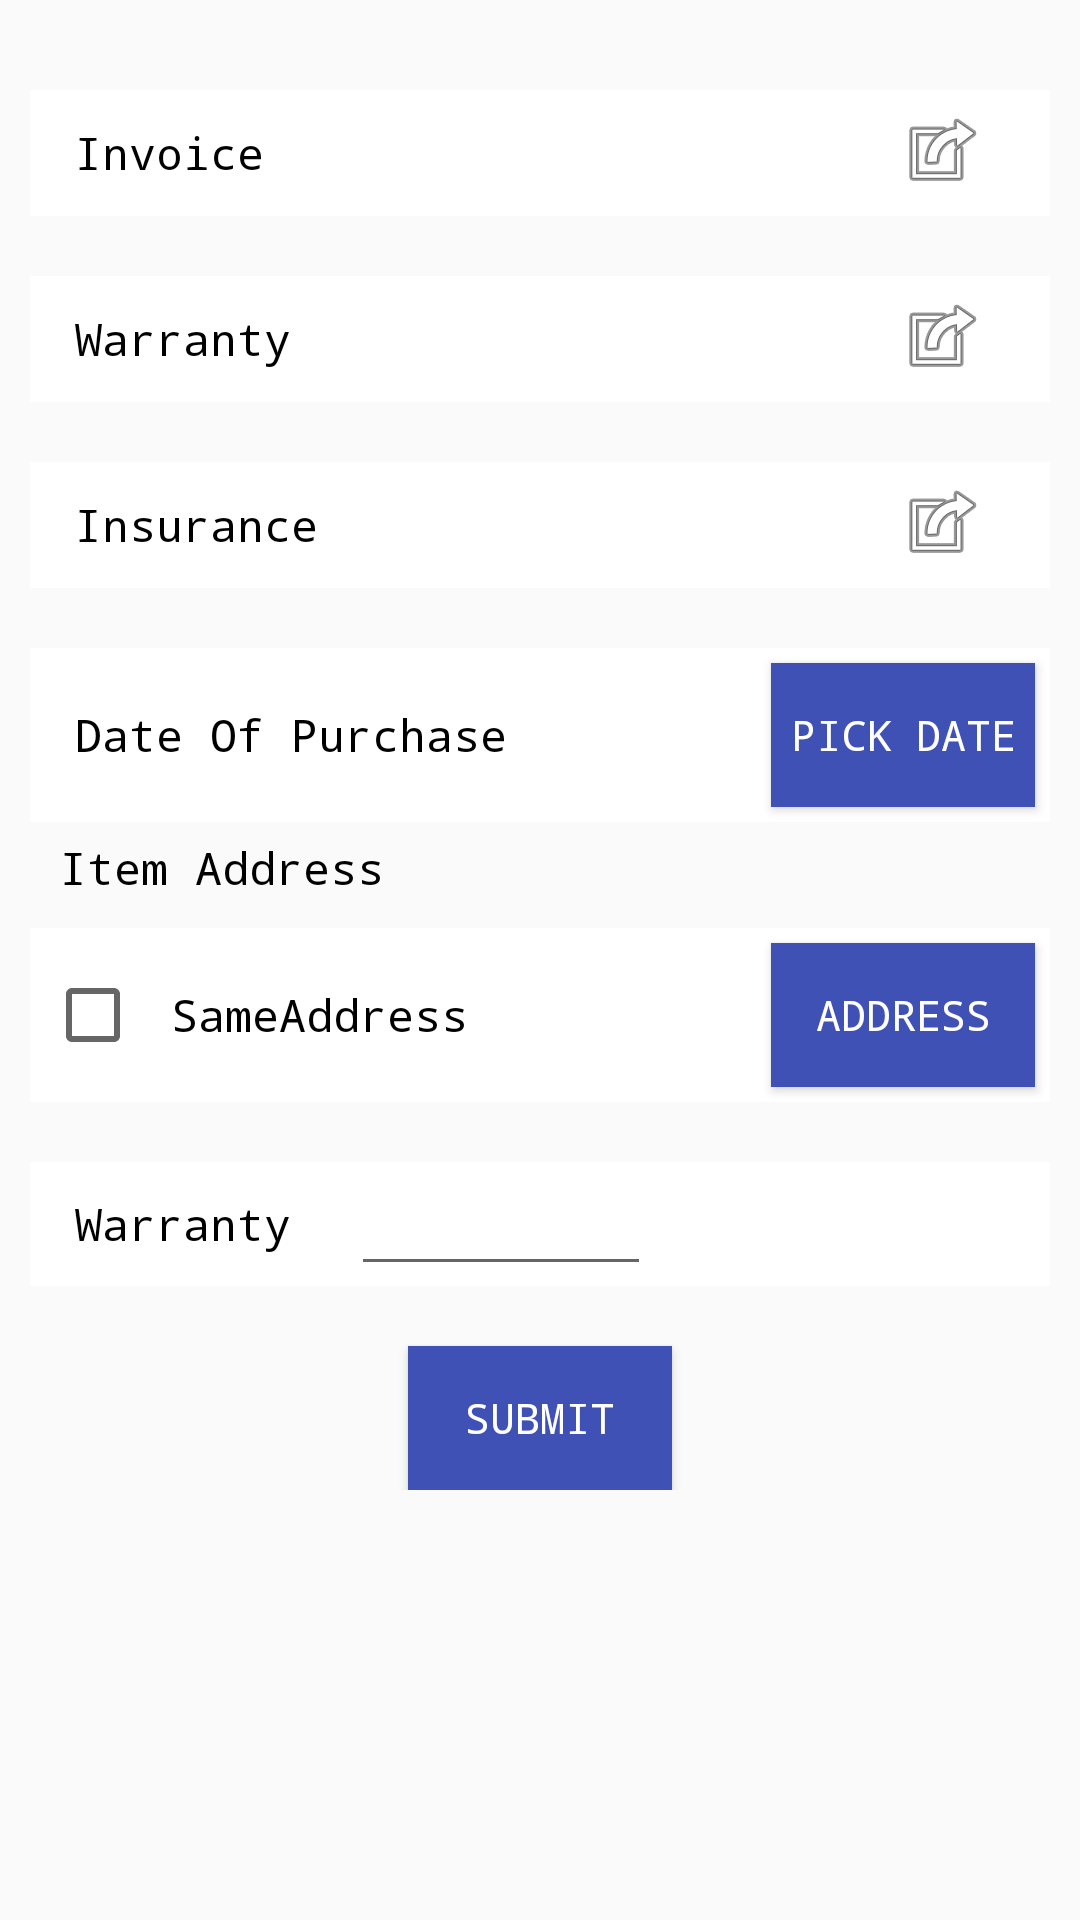

Icon click points for this 1080 x 1920 phone screenshot, format [x,y]:
set as: [943,149], [943,335], [943,521]
